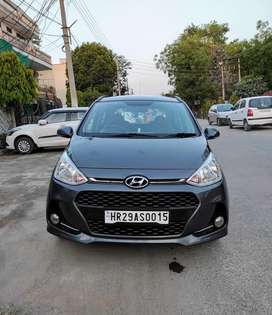HR29AS0015: (104, 210, 168, 224)
